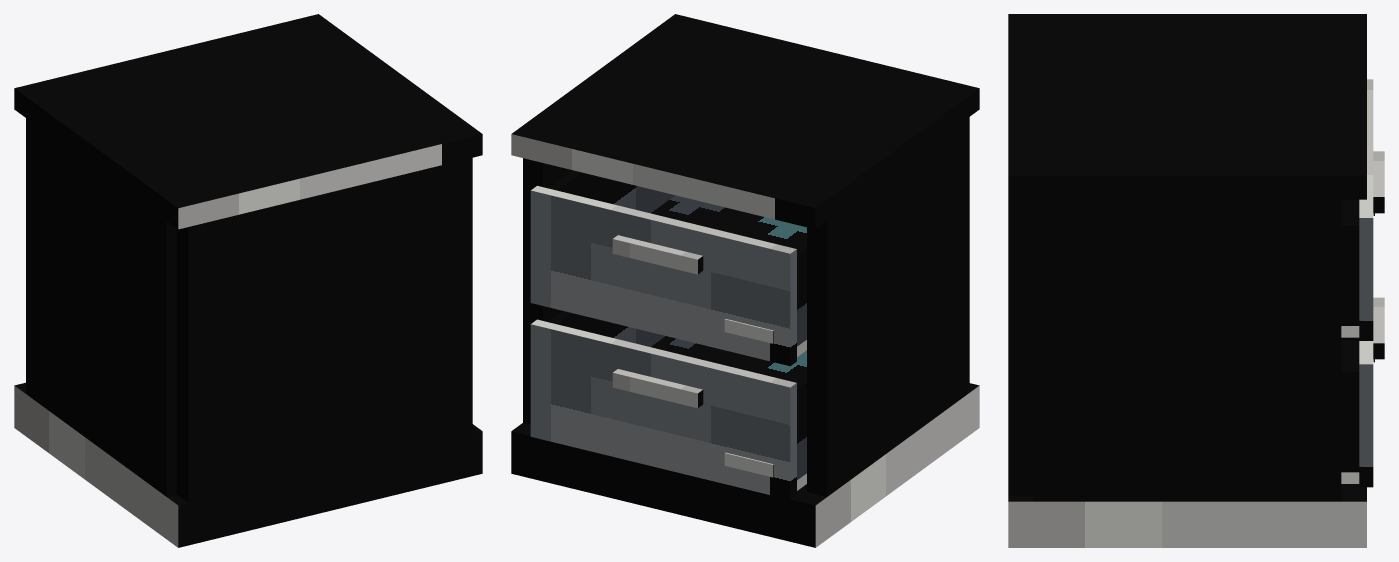
Rendered from lab_freezer.obj.
3 renders of one model, left to right at view 1: azimuth 30°, elevation 25°; view 2: azimuth 150°, elevation 25°; view 3: azimuth 270°, elevation 25°, orthographic. The views are drawn at different scales.
Size of the model in its own units: 0.9375 by 1 by 0.9187.
